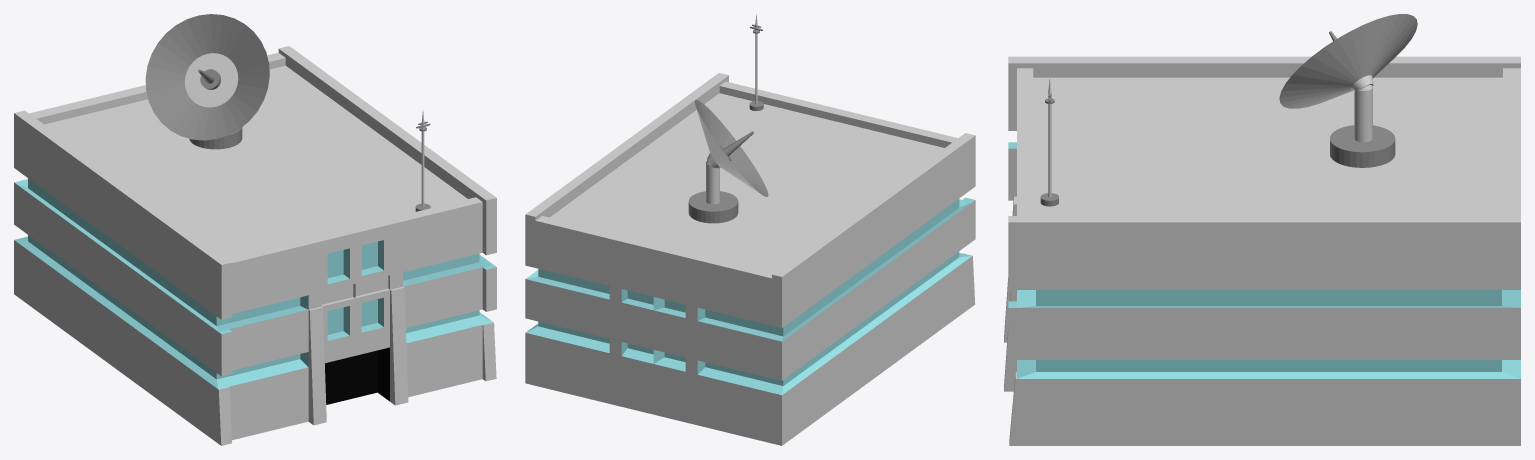
Rendered from lab.fbx.
3 views of the same model, side by side, from view 1: azimuth 30°, elevation 25°; view 2: azimuth 150°, elevation 25°; view 3: azimuth 270°, elevation 25° (orthographic). The views are drawn at different scales.
Parts seen in each view (by area): view 1: lab; view 2: lab; view 3: lab.
Boxes of the visible parts, x1,y1,x2,y2 form: lab: (14,14,496,445); lab: (525,14,975,445); lab: (1004,14,1520,445).
Bounding box in the file's own units: 1197 × 1577 × 1185.
